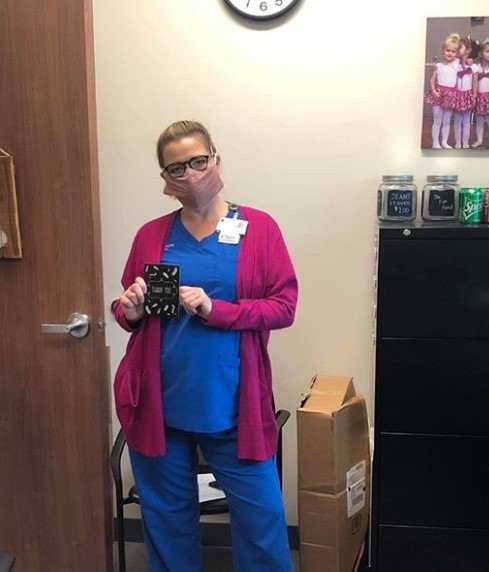face_with_mask: (157, 123, 226, 214)
